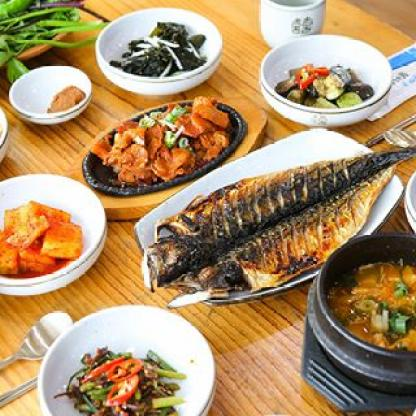Peixe: (136, 127, 416, 300)
